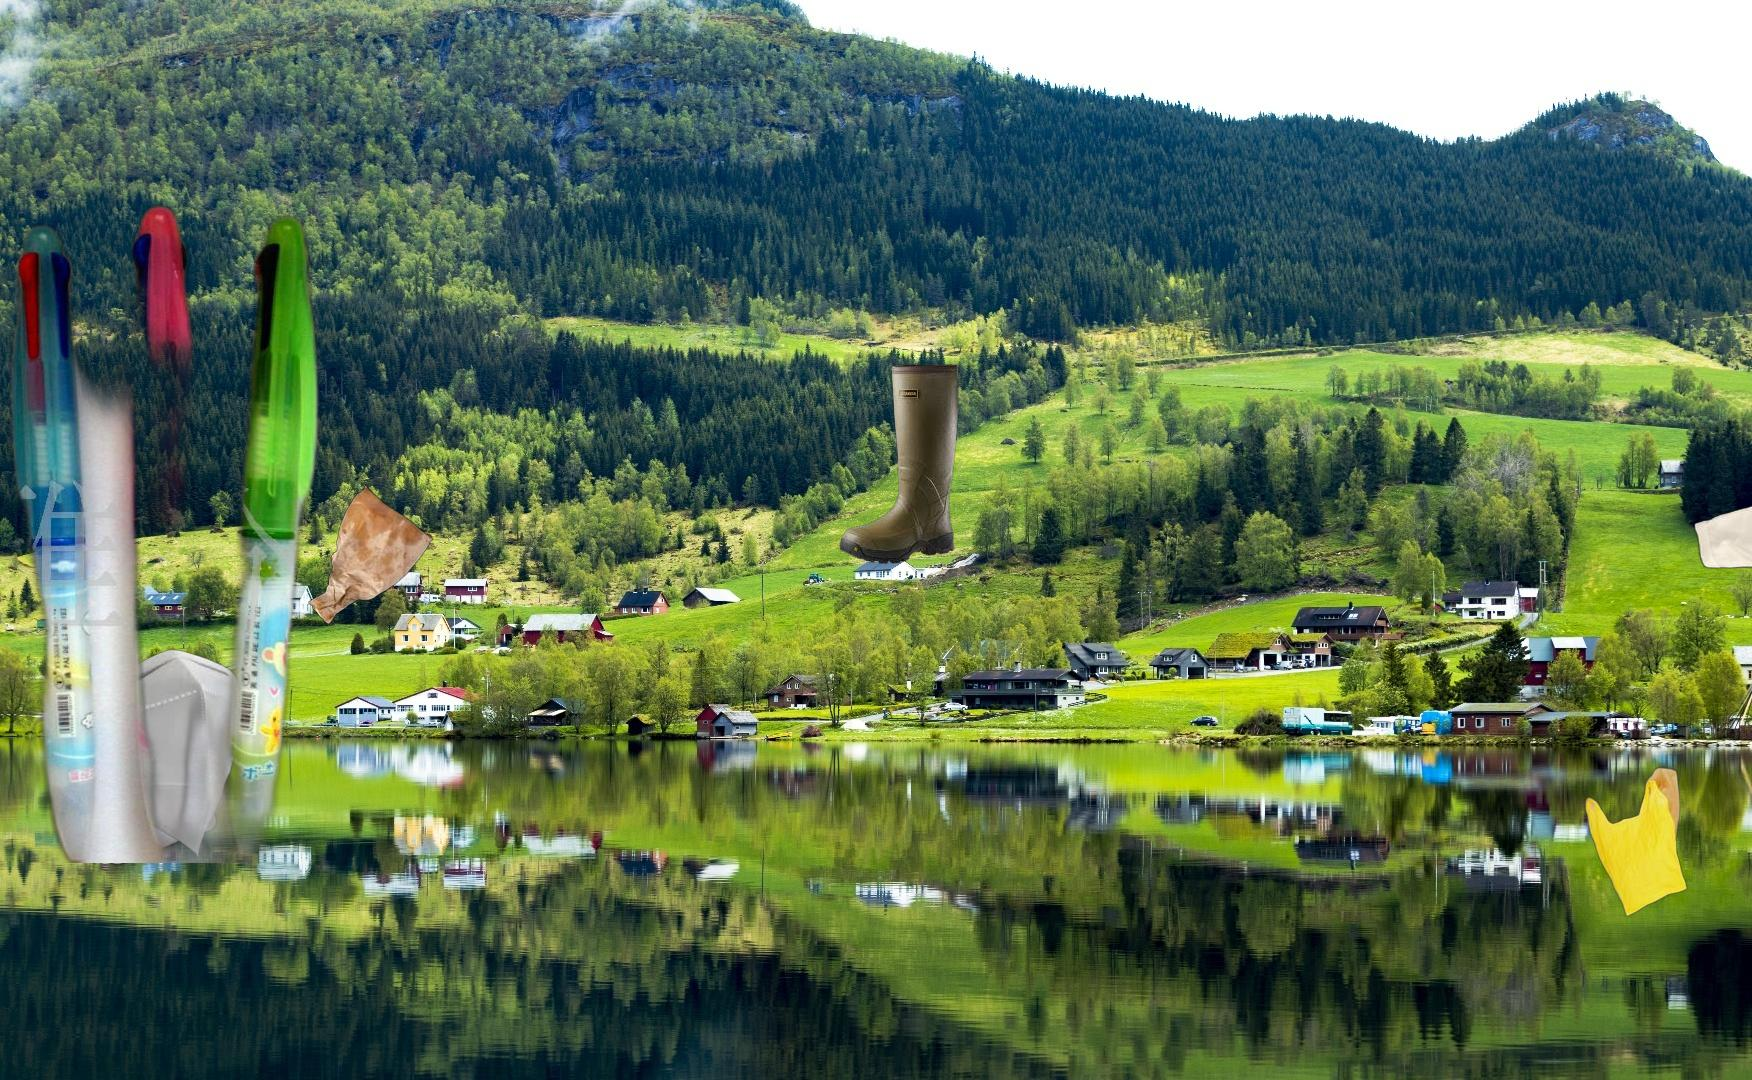clothes: (1688, 433, 1752, 833)
paper-bag: (307, 484, 435, 627)
penholder: (1, 200, 328, 863)
plastic-bag: (1583, 766, 1688, 919)
plastic-bottles: (88, 781, 222, 870)
shoes: (837, 364, 961, 564)
trash: (31, 647, 248, 858)
